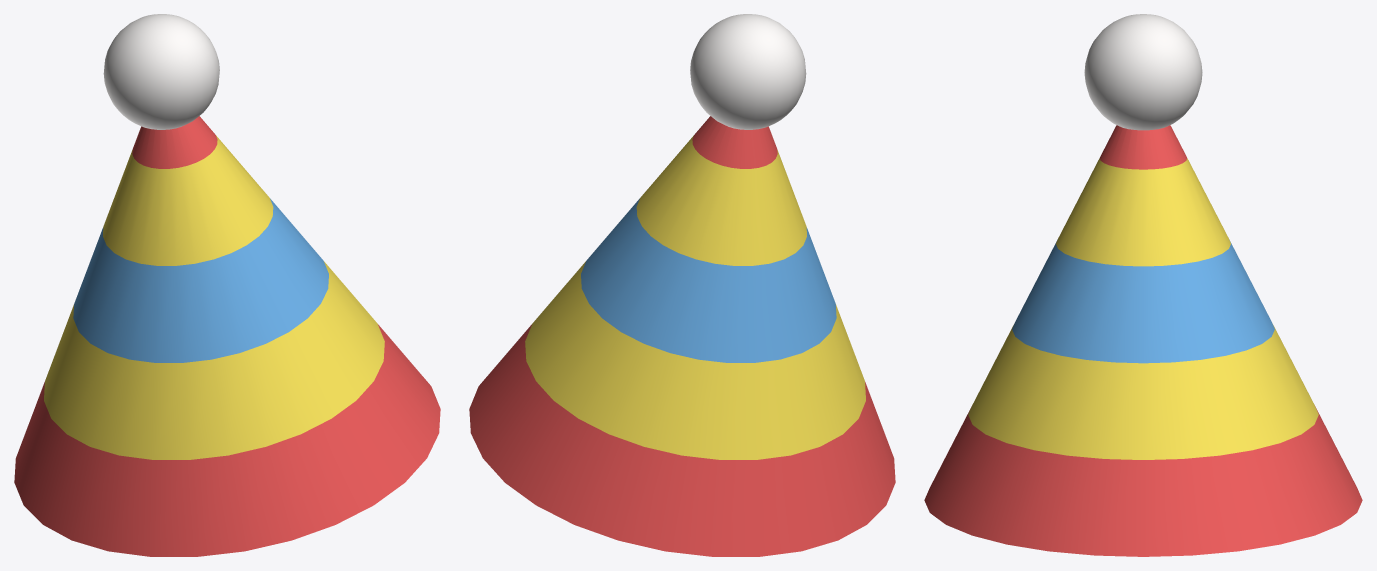
File: clown_hat.glb
3 views of the same model, side by side, from view 1: azimuth 30°, elevation 25°; view 2: azimuth 150°, elevation 25°; view 3: azimuth 270°, elevation 25° (orthographic).
Bounding box in the file's own units: 0.1024 × 0.1264 × 0.104.
